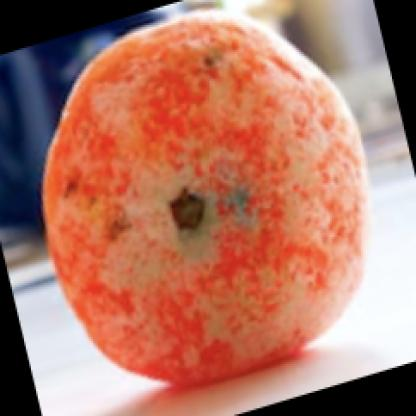rotten: (45, 17, 368, 378)
